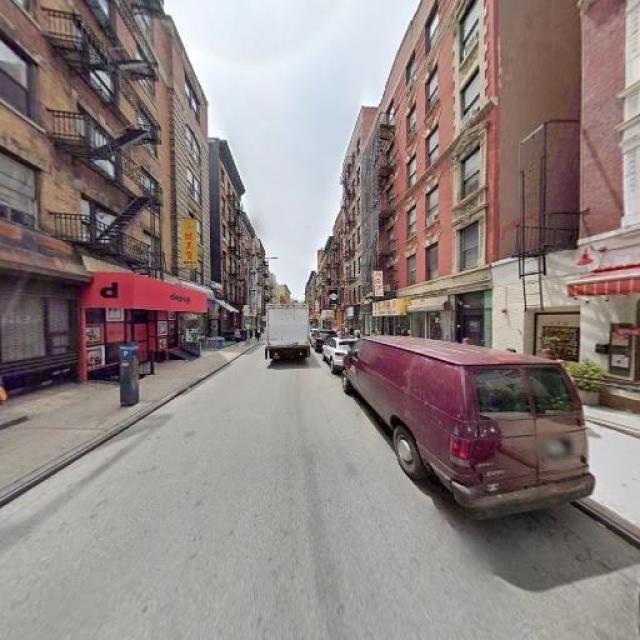Building: (1, 1, 208, 395), (368, 1, 492, 365), (583, 1, 640, 399), (497, 257, 575, 384), (345, 149, 365, 335), (223, 159, 240, 338), (212, 133, 220, 340), (333, 207, 342, 330), (243, 207, 250, 332), (253, 232, 258, 329), (325, 238, 330, 327)
